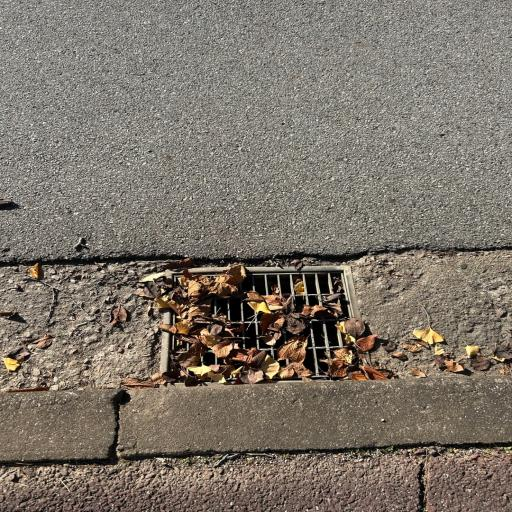debris: (171, 272, 309, 378), (247, 285, 324, 345), (325, 317, 367, 377), (293, 278, 304, 295), (213, 315, 230, 323), (330, 304, 340, 315)
drain: (171, 272, 368, 381)
